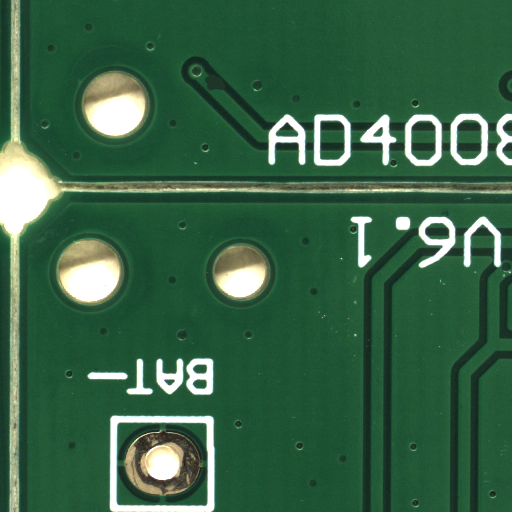Mouse_bite: (216, 83, 237, 98)
